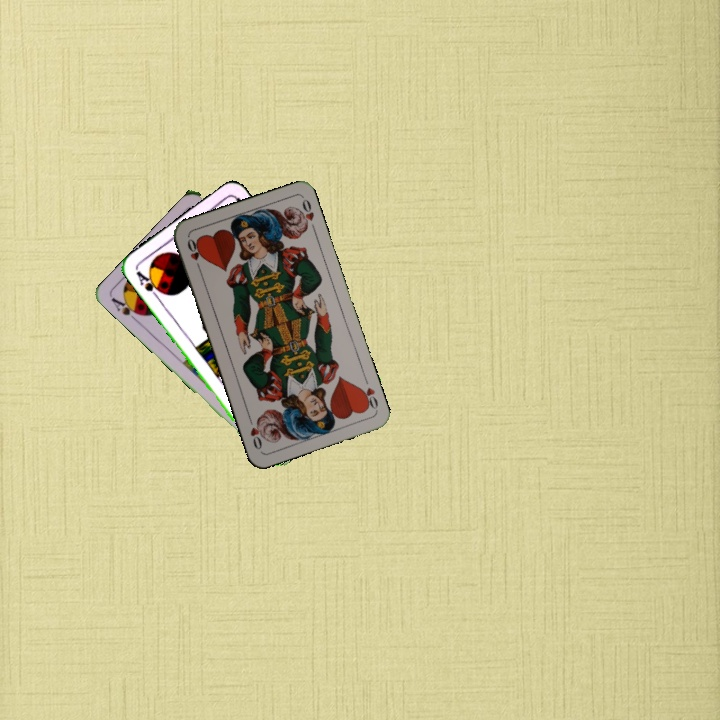HO: (183, 234, 204, 273), (356, 383, 381, 413)
SA: (107, 293, 145, 325), (132, 266, 166, 301)
